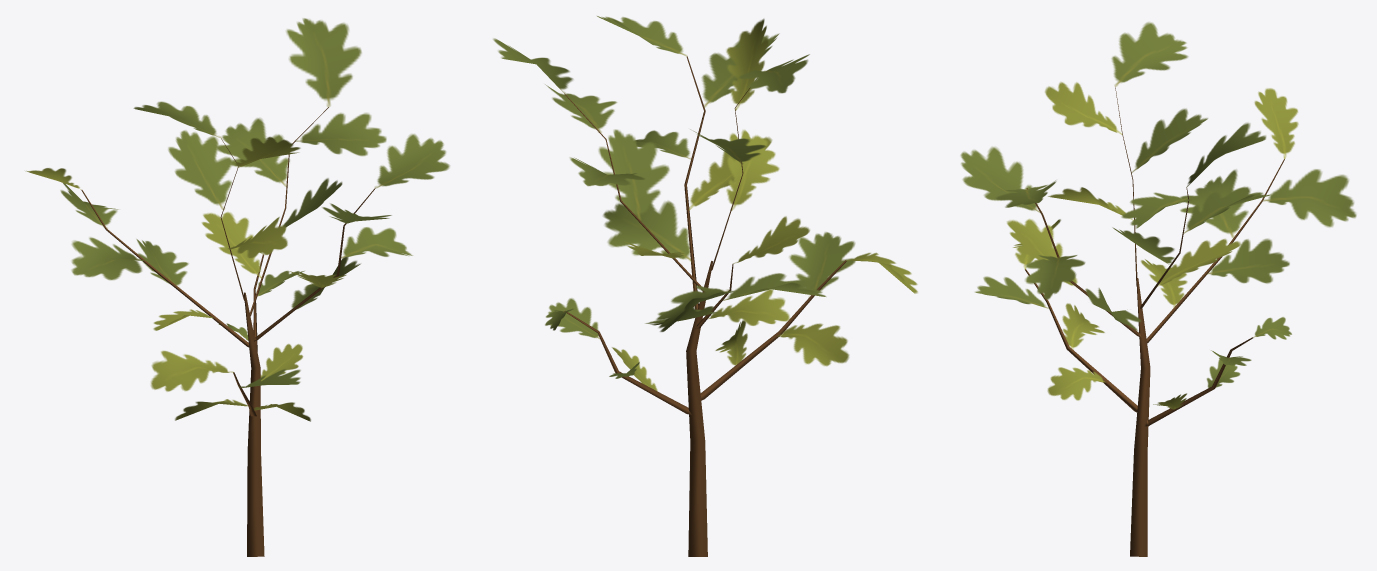
Rendered from Young_Oak_Tree_3.glb.
The picture shows the model from 3 angles, left to right: view 1: azimuth 30°, elevation 25°; view 2: azimuth 150°, elevation 25°; view 3: azimuth 270°, elevation 25°; orthographic projection. The views are drawn at different scales.
Parts seen in each view (by area): view 1: Young_Oak_Tree_3; view 2: Young_Oak_Tree_3; view 3: Young_Oak_Tree_3.
Boxes of the visible parts, box(x1,y1,x2,y2) form: Young_Oak_Tree_3: box(25, 18, 449, 556); Young_Oak_Tree_3: box(493, 16, 917, 556); Young_Oak_Tree_3: box(960, 22, 1356, 556).
Size of the model in its own units: 0.9187 by 1.34 by 1.02.
2 materials, 2 textured.
